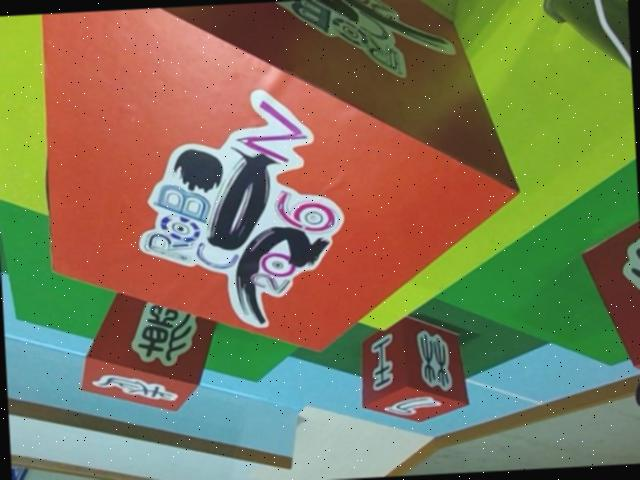R1: (40, 0, 529, 367)
R2 Fake: (75, 285, 223, 418), (358, 314, 471, 428)
